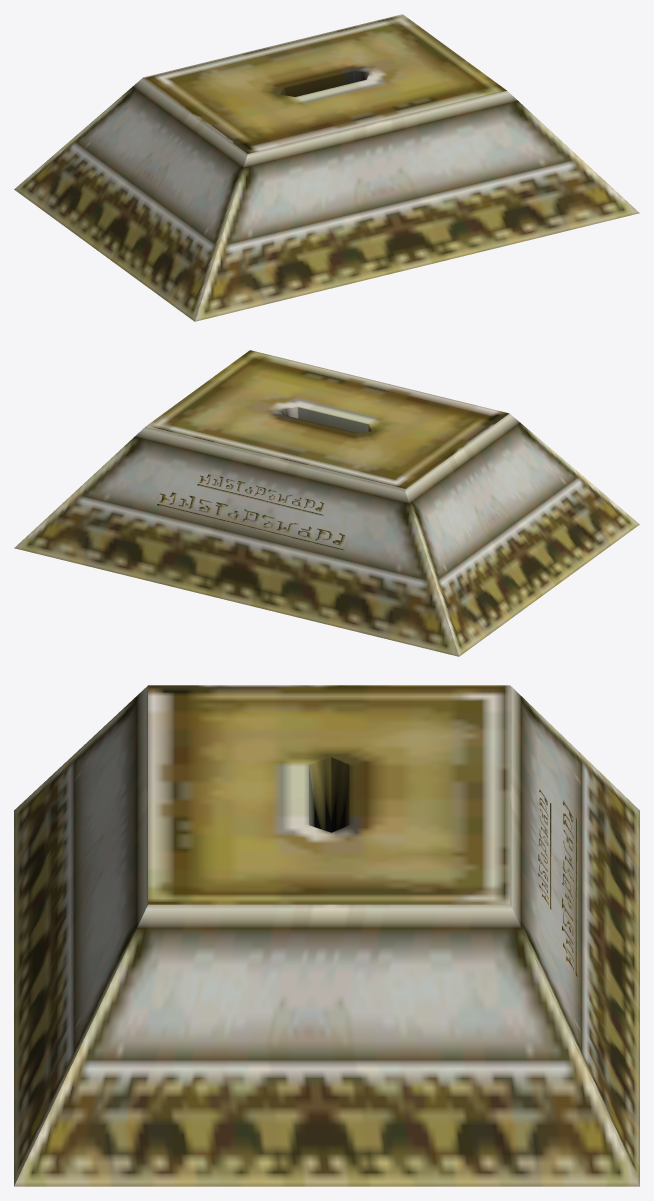
The model's file is sword_pedestal_twilight.obj.
3 views of the same model, one above another, from view 1: azimuth 30°, elevation 25°; view 2: azimuth 150°, elevation 25°; view 3: azimuth 270°, elevation 25° (orthographic). The views are drawn at different scales.
Parts seen in each view (by area): view 1: sword_pedestal_twilight; view 2: sword_pedestal_twilight; view 3: sword_pedestal_twilight.
Boxes of the visible parts, <box> form: sword_pedestal_twilight: <box>14,14,639,321</box>; sword_pedestal_twilight: <box>14,350,639,656</box>; sword_pedestal_twilight: <box>14,685,639,1186</box>.
Bounding box in the file's own units: 0.995 × 0.25 × 0.7.
